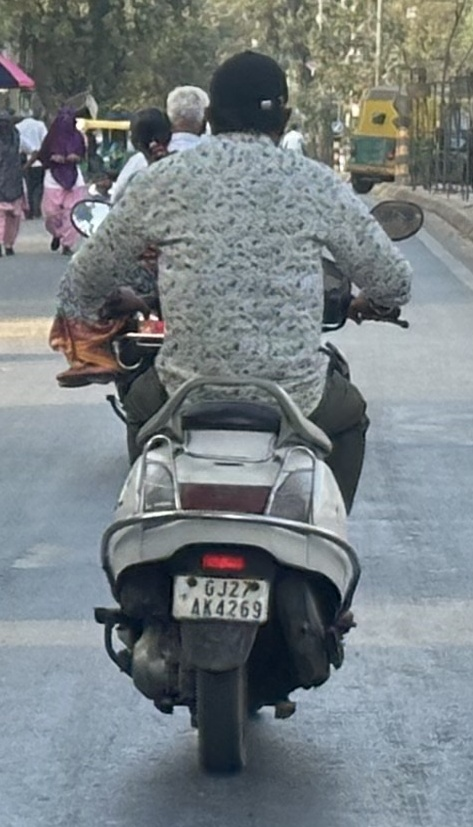BikeWithRider: (49, 47, 428, 781)
NoHelmet: (200, 50, 290, 152)
